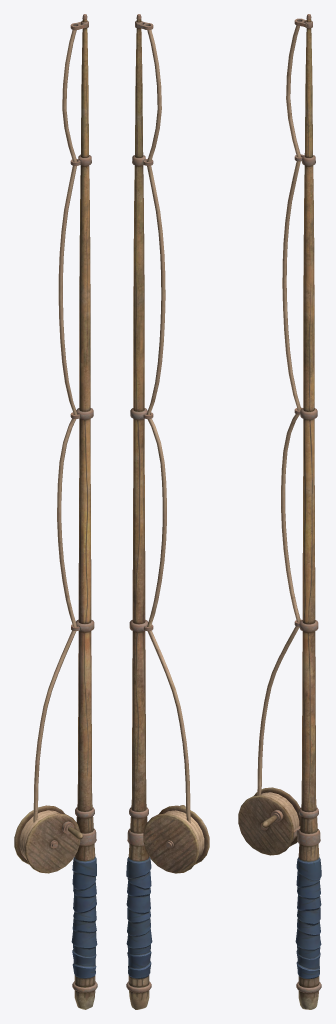
The picture shows the model from 3 angles, left to right: view 1: azimuth 30°, elevation 25°; view 2: azimuth 150°, elevation 25°; view 3: azimuth 330°, elevation 25°; orthographic projection.
Parts seen in each view (by area): view 1: SM_Fishing_Rod_2H_02_LOD0; view 2: SM_Fishing_Rod_2H_02_LOD0; view 3: SM_Fishing_Rod_2H_02_LOD0.
Boxes of the visible parts, x1,y1,x2,y2 form: SM_Fishing_Rod_2H_02_LOD0: (14, 14, 97, 1009); SM_Fishing_Rod_2H_02_LOD0: (126, 14, 209, 1009); SM_Fishing_Rod_2H_02_LOD0: (238, 14, 321, 1009).
Bounding box in the file's own units: 0.2162 × 2.69 × 0.144.
1 material, 1 textured.
